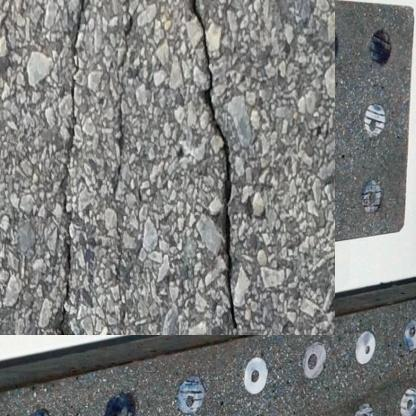Cracks: (174, 0, 224, 310), (52, 0, 82, 310), (98, 0, 126, 189)
